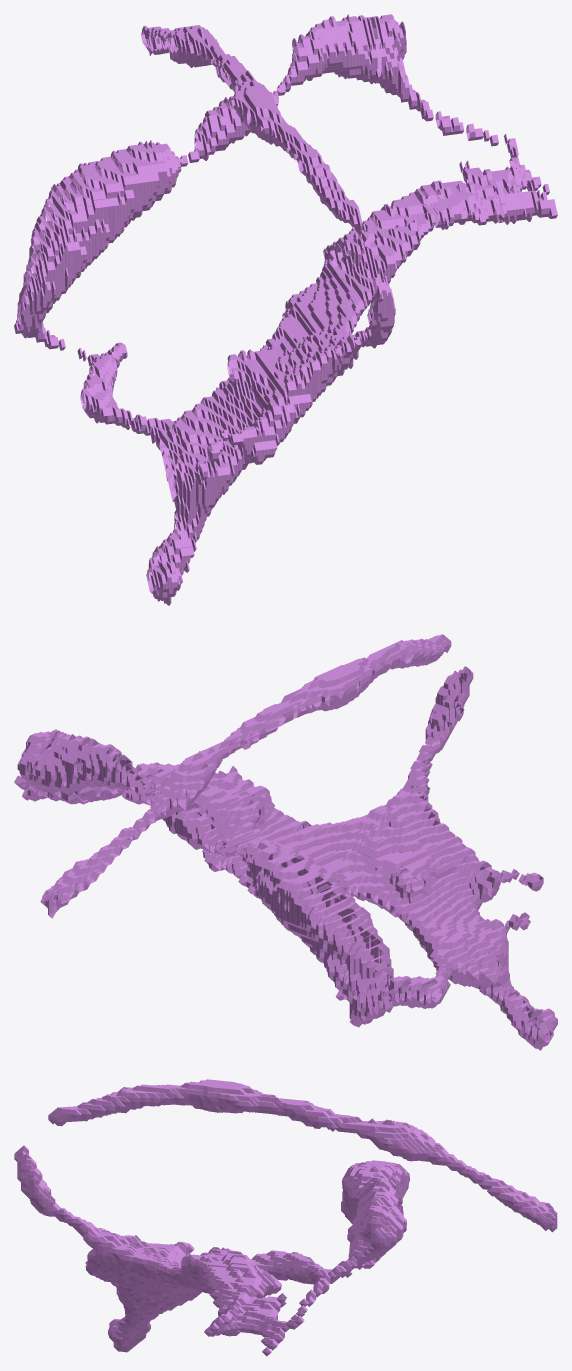
Rendered from SVV_CEPDL.gltf.
3 renders of one model, top to bottom at view 1: azimuth 30°, elevation 25°; view 2: azimuth 150°, elevation 25°; view 3: azimuth 270°, elevation 25°, orthographic. The views are drawn at different scales.
Parts seen in each view (by area): view 1: CEPDL; view 2: CEPDL; view 3: CEPDL.
Part boxes in pixels (x1=…): CEPDL: x1=14, y1=14, x2=557, y2=605; CEPDL: x1=14, y1=634, x2=557, y2=1050; CEPDL: x1=14, y1=1079, x2=557, y2=1356.
Bounding box in the file's own units: 60177 × 49448 × 74702.
